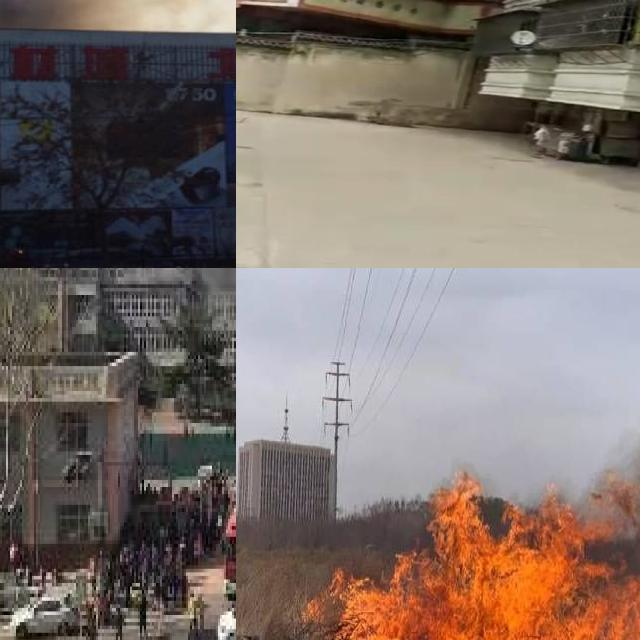fire: (294, 456, 640, 640)
